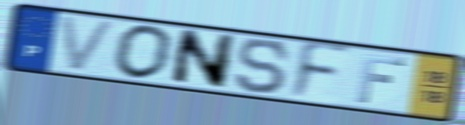F: (287, 39, 354, 102), (354, 52, 409, 105)
N: (168, 27, 239, 90)
O: (112, 23, 177, 82)
S: (234, 37, 292, 96)
V: (57, 13, 120, 74)
